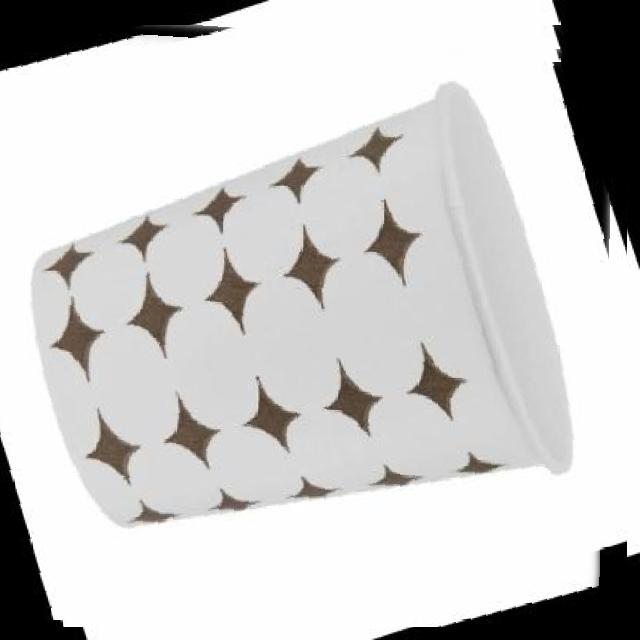non-biodegradable: (0, 12, 615, 627)
